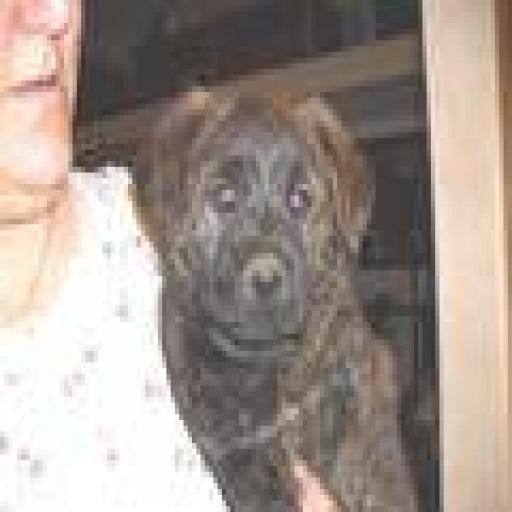Dog: (92, 65, 457, 512)
